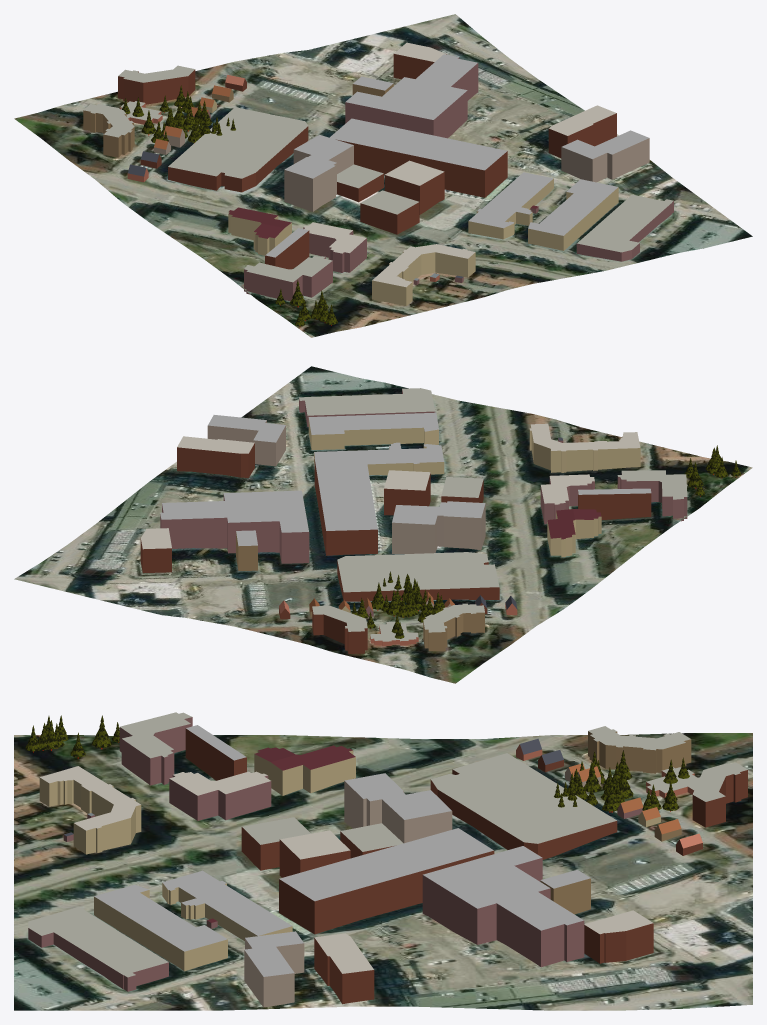
File: rise_simple.fbx
3 renders of one model, top to bottom at view 1: azimuth 30°, elevation 25°; view 2: azimuth 150°, elevation 25°; view 3: azimuth 270°, elevation 25°, orthographic. The views are drawn at different scales.
Parts seen in each view (by area): view 1: map_10.osm_buildings, Terrain; view 2: Terrain, map_10.osm_buildings; view 3: Terrain, map_10.osm_buildings.
Part boxes in pixels (x1=…): map_10.osm_buildings: x1=83, y1=42, x2=673, y2=305; Terrain: x1=14, y1=14, x2=752, y2=337; Terrain: x1=14, y1=366, x2=752, y2=683; map_10.osm_buildings: x1=140, y1=388, x2=687, y2=653; Terrain: x1=14, y1=733, x2=752, y2=1010; map_10.osm_buildings: x1=28, y1=712, x2=747, y2=1007.
Size of the model in its own units: 29301 by 2425 by 34015.
Materials: 33 (2 with a texture image).
